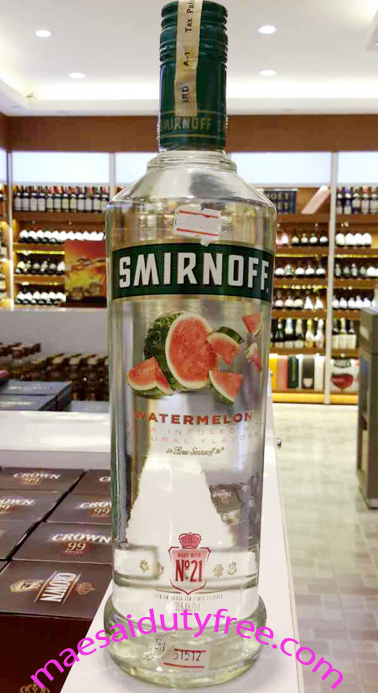Smirnoff: (97, 1, 283, 693)
